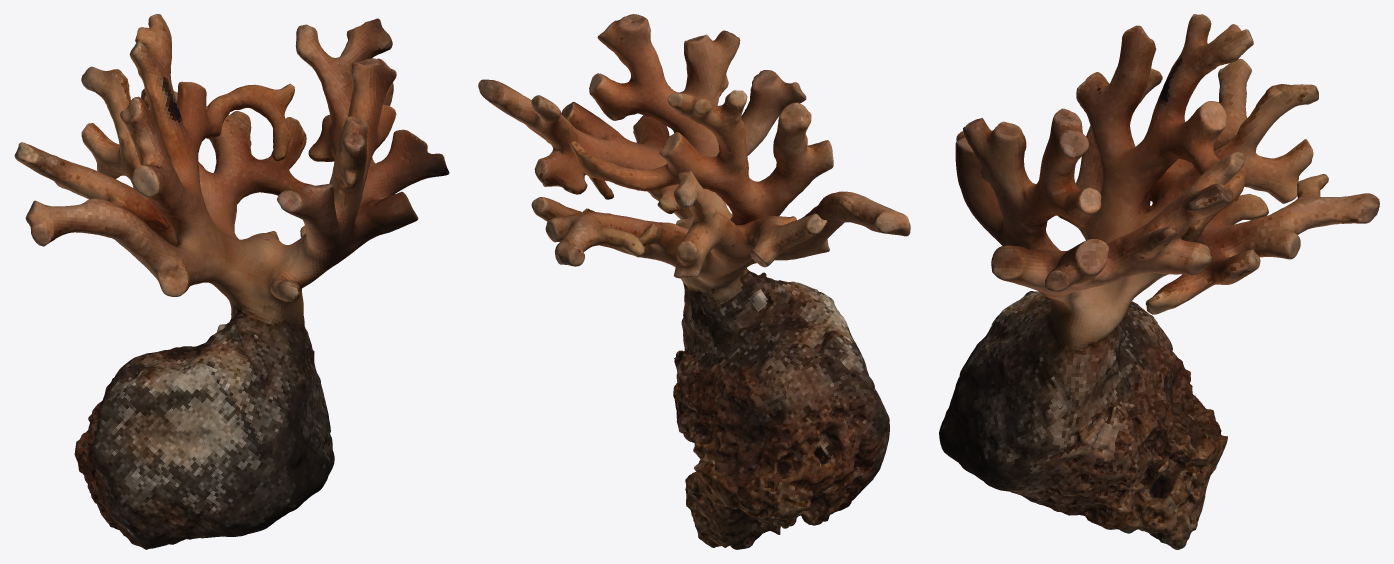
File: Coral1.glb
3 views of the same model, side by side, from view 1: azimuth 30°, elevation 25°; view 2: azimuth 150°, elevation 25°; view 3: azimuth 270°, elevation 25° (orthographic). The views are drawn at different scales.
Visible parts, largest first — view 1: Mesh_0.004; view 2: Mesh_0.004; view 3: Mesh_0.004.
Part boxes in pixels (x1,y1,x2,y2): Mesh_0.004: [14, 14, 449, 549]; Mesh_0.004: [478, 14, 910, 549]; Mesh_0.004: [939, 14, 1379, 549].
Bounding box in the file's own units: 2.96 × 3.49 × 2.66.
Materials: 1 (1 with a texture image).
